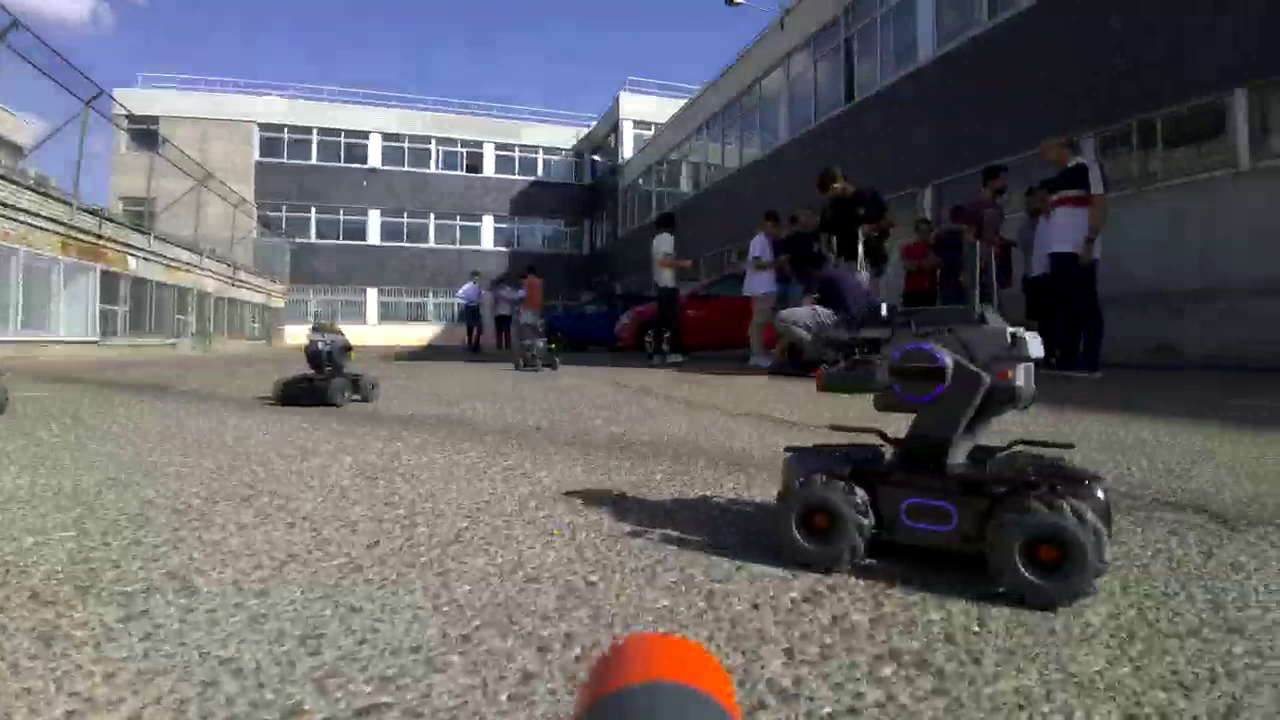robot: (775, 239, 1115, 617), (272, 308, 382, 408), (515, 331, 560, 374)
